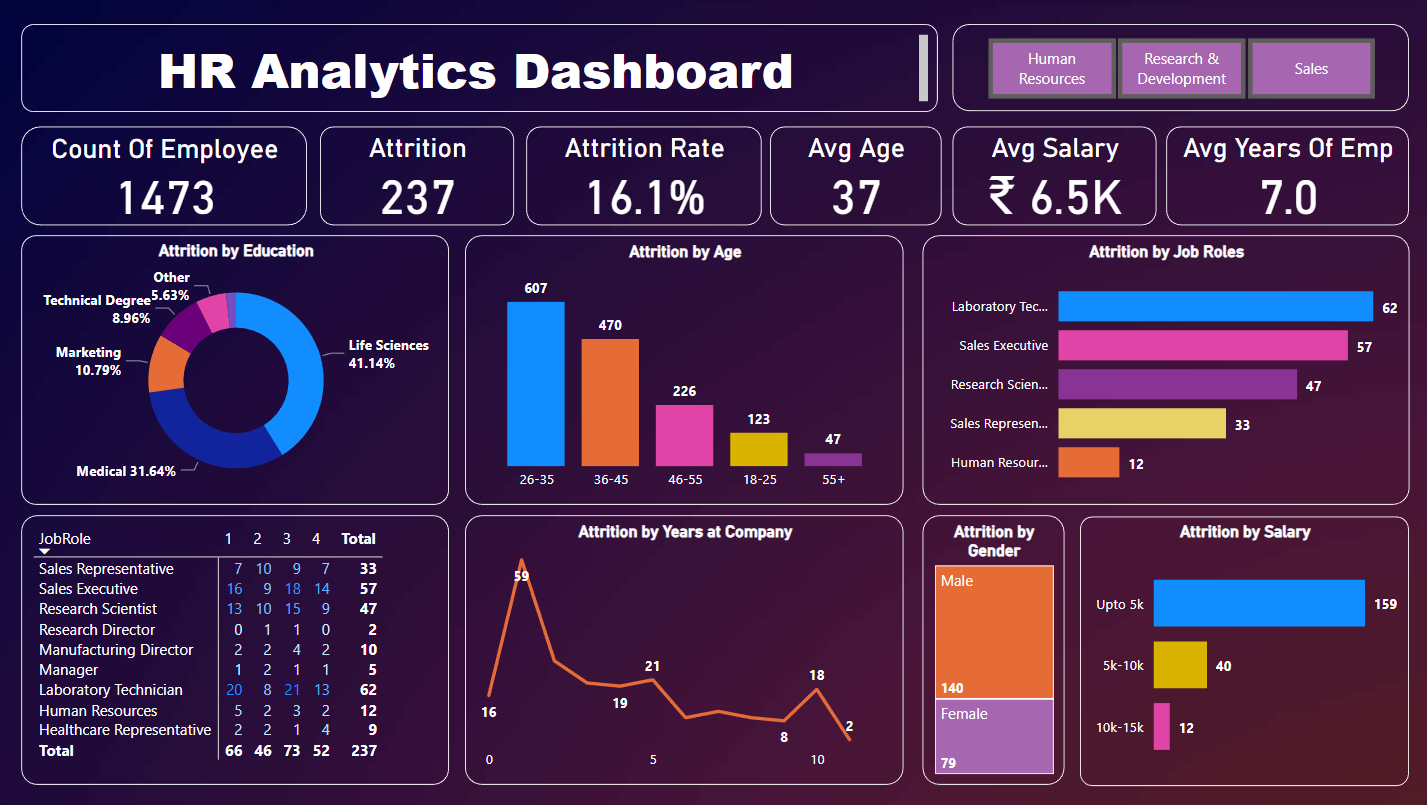

This screenshot's page, from the dashboard's own definition file:
{"tool":"powerbi","page":{"name":"Page 1","canvas":[1280,720],"ordinal":0},"visuals":[{"type":"card","title":"Avg Age","fields":{"Values":["Avg(HR_Analytics.Age)"]},"box":[685.5,113.5,152.5,87.9],"z":0},{"type":"card","title":"Count Of Employee","fields":{"Values":["CountNonNull(HR_Analytics.EmpID)"]},"box":[18.9,113.3,254.4,87.8],"z":1000},{"type":"card","title":"Attrition Rate","fields":{"Values":["HR_Analytics.Attrition rate"]},"box":[468.5,113.5,209.2,87.9],"z":2000},{"type":"card","title":"Attrition","fields":{"Values":["Sum(HR_Analytics.Attrition Count)"]},"box":[284.9,113.5,172.5,87.9],"z":3000},{"type":"card","title":"Avg Salary","fields":{"Values":["Avg(HR_Analytics.MonthlyIncome)"]},"box":[848,113.5,181.4,87.9],"z":4000},{"type":"card","title":"Avg Years Of Emp","fields":{"Values":["Avg(HR_Analytics.YearsAtCompany)"]},"box":[1038.3,113.5,215.9,87.9],"z":5000},{"type":"donutChart","title":"Attrition by Education","fields":{"Category":["HR_Analytics.EducationField"],"Y":["CountNonNull(HR_Analytics.Attrition)"]},"box":[19.2,209.8,381.2,239.9],"z":6000},{"type":"columnChart","title":"Attrition by Age ","fields":{"Category":["HR_Analytics.AgeGroup"],"Y":["CountNonNull(HR_Analytics.EducationField)"]},"box":[414.1,209.8,390.7,239.9],"z":7000},{"type":"pivotTable","fields":{"Rows":["HR_Analytics.JobRole"],"Columns":["HR_Analytics.JobSatisfaction"],"Values":["Sum(HR_Analytics.Attrition Count)"]},"box":[19,460,381,240],"z":8000},{"type":"clusteredBarChart","title":"Attrition by Job Roles","fields":{"Category":["HR_Analytics.JobRole","HR_Analytics.SalarySlab"],"Y":["Sum(HR_Analytics.Attrition Count)"]},"box":[821.3,209.8,433.3,239.9],"z":9000},{"type":"lineChart","title":"Attrition by Years at Company ","fields":{"Category":["HR_Analytics.YearsAtCompany"],"Y":["Sum(HR_Analytics.Attrition Count)"]},"box":[414.1,459.3,390.7,239.9],"z":10000},{"type":"treemap","title":"Attrition by Gender","fields":{"Group":["HR_Analytics.Gender"],"Values":["Sum(HR_Analytics.Attrition Count)"]},"box":[821.3,459.3,126.1,239.9],"z":11000},{"type":"clusteredBarChart","title":"Attrition by Salary","fields":{"Category":["HR_Analytics.SalarySlab"],"Y":["Sum(HR_Analytics.Attrition Count)"]},"box":[961.5,460.7,292.7,240.4],"z":12000},{"type":"slicer","fields":{"Values":["HR_Analytics.Department"]},"box":[848,22.3,406.2,77.9],"z":13000},{"type":"textbox","box":[19.2,21.9,815.8,78.1],"z":14000}]}

Visuals, with their boxes in screenshot pixels (x1, y1, x2, y2), scaled from the page's 1280x720 canvas onto the 1427x805 screenshot:
"Avg Age" card: 764 127 934 225
"Count Of Employee" card: 21 127 305 225
"Attrition Rate" card: 522 127 756 225
"Attrition" card: 318 127 510 225
"Avg Salary" card: 945 127 1148 225
"Avg Years Of Emp" card: 1158 127 1398 225
"Attrition by Education" donutChart: 21 235 446 503
"Attrition by Age " columnChart: 462 235 897 503
pivotTable - HR_Analytics.JobRole x HR_Analytics.JobSatisfaction: 21 514 446 783
"Attrition by Job Roles" clusteredBarChart: 916 235 1399 503
"Attrition by Years at Company " lineChart: 462 514 897 782
"Attrition by Gender" treemap: 916 514 1056 782
"Attrition by Salary" clusteredBarChart: 1072 515 1398 784
slicer - HR_Analytics.Department: 945 25 1398 112
textbox: 21 24 931 112
